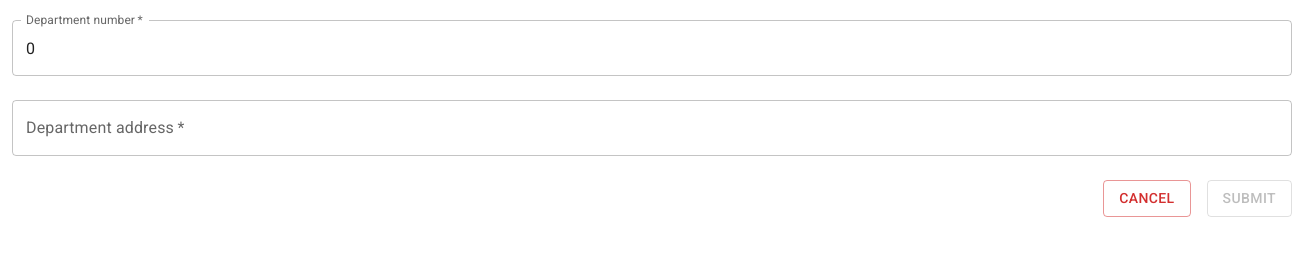
Test: CreateDepartmentForm › max length constraint validation error is displayed
Check: the button with test id "submit-btn" is disabled, box x1=1207 y1=180 x2=1292 y2=216
Replace the text in the field labelled "Department number *" with "1" at coordinates (652, 48), box x1=12 y1=20 x2=1292 y2=76
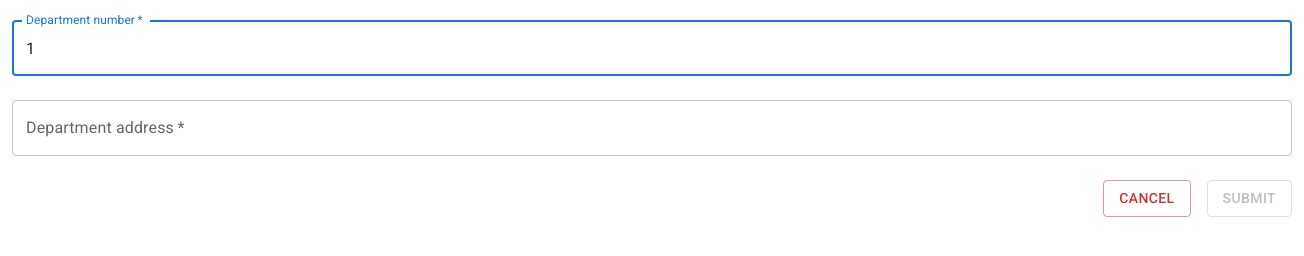
Type "address" into the field labelled "Department address *" at coordinates (652, 128), box x1=12 y1=100 x2=1292 y2=156
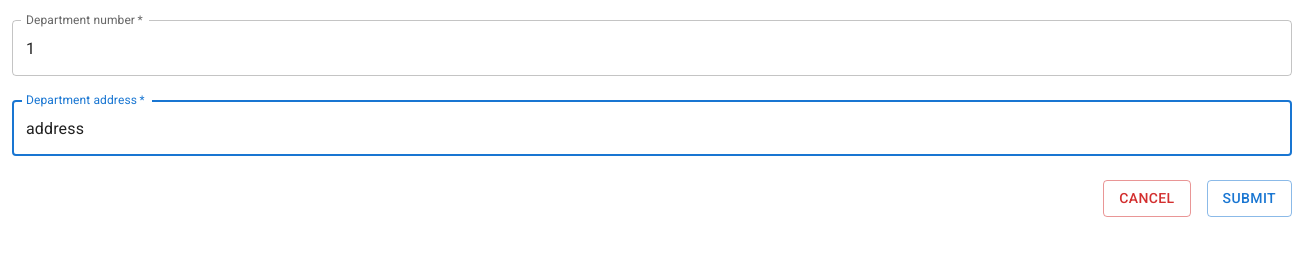
Click the button with test id "submit-btn" at coordinates (1249, 198), box x1=1207 y1=180 x2=1292 y2=216
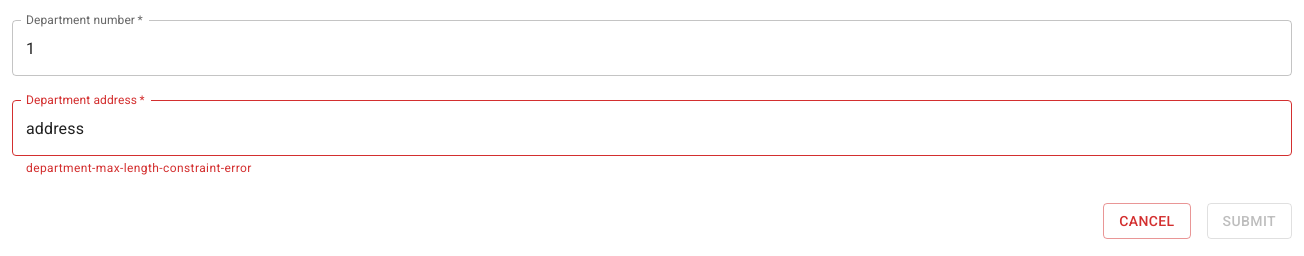
Check: the text "department-max-length-constraint-error" is shown, box x1=26 y1=161 x2=252 y2=175
Check: the button with test id "submit-btn" is disabled, box x1=1207 y1=203 x2=1292 y2=239
